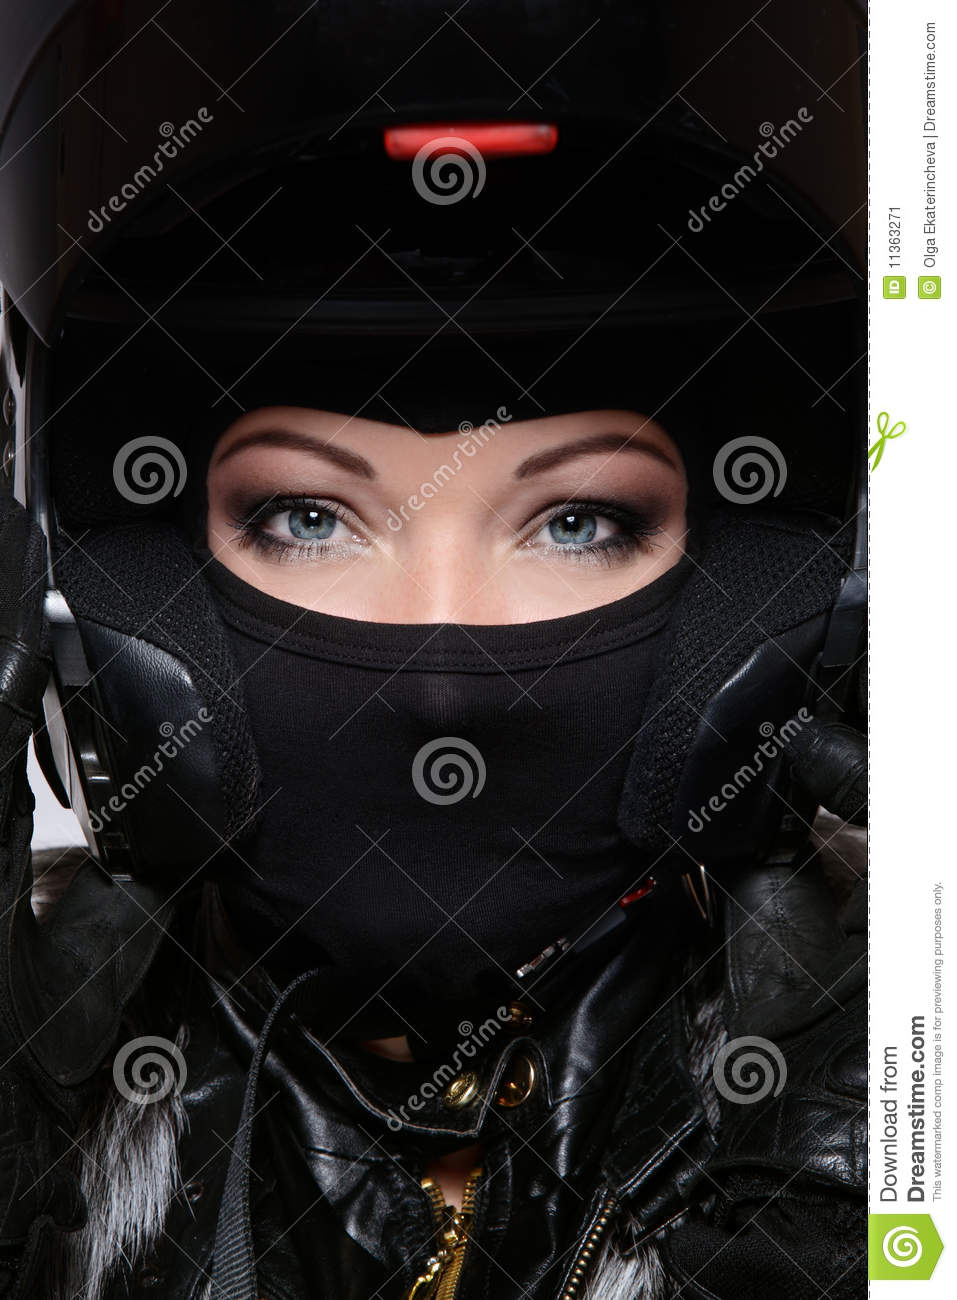helmet: (42, 51, 856, 907)
